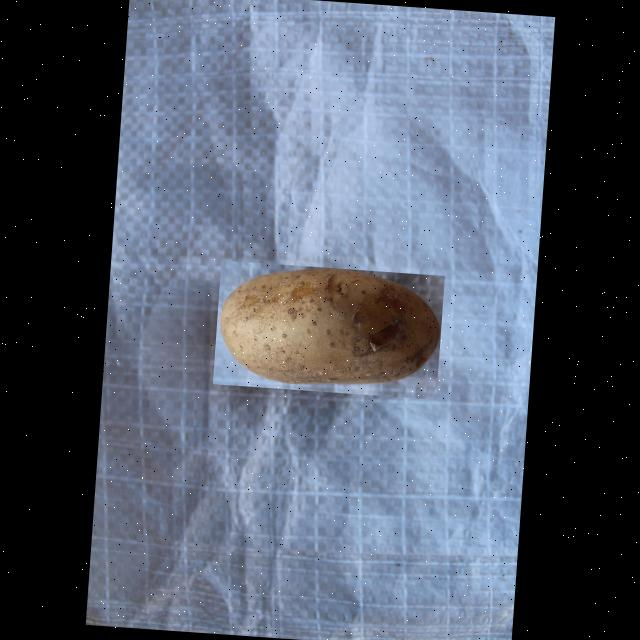Diseased-fungal potato: (212, 259, 444, 398)
